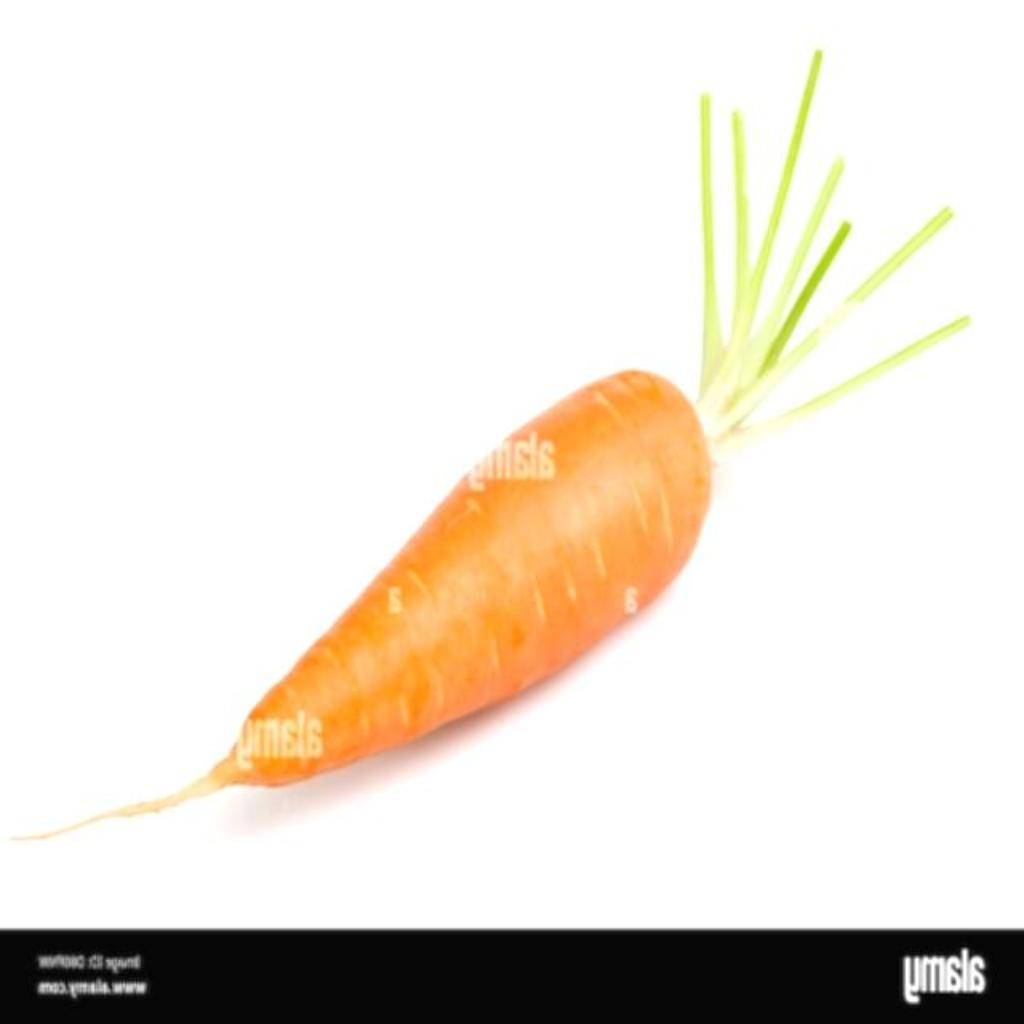carrot: (20, 52, 970, 839)
